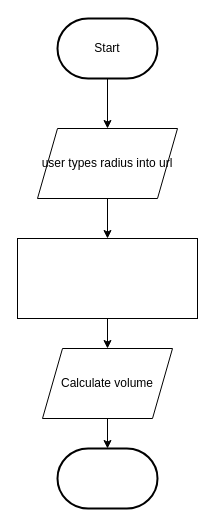
Some shapes in this 215 by 526 pixel diagram are drawn without their labels. The centre of each missing label's shape, as x and y in pixels:
Program takes input through ?r = and substitutes the radius to calculate volume: (x=107, y=278)
Stop: (x=107, y=478)
